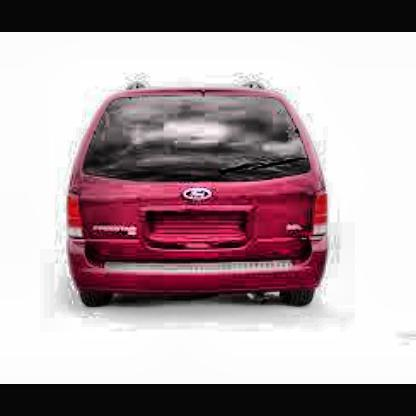Ford Freestar Minivan 2007: (66, 83, 337, 309)
